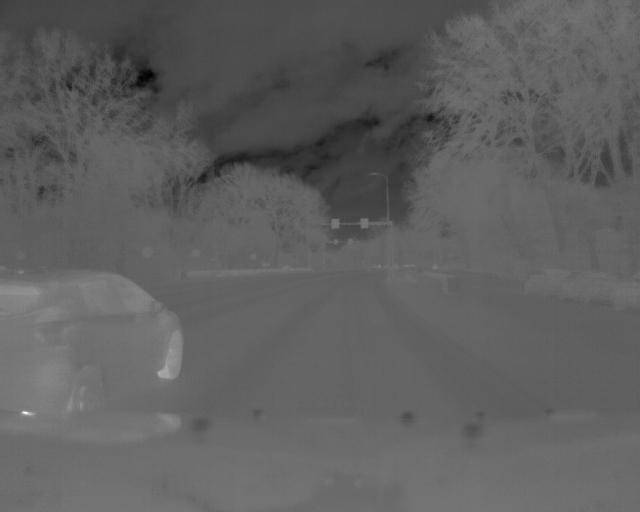car: (1, 269, 185, 405)
